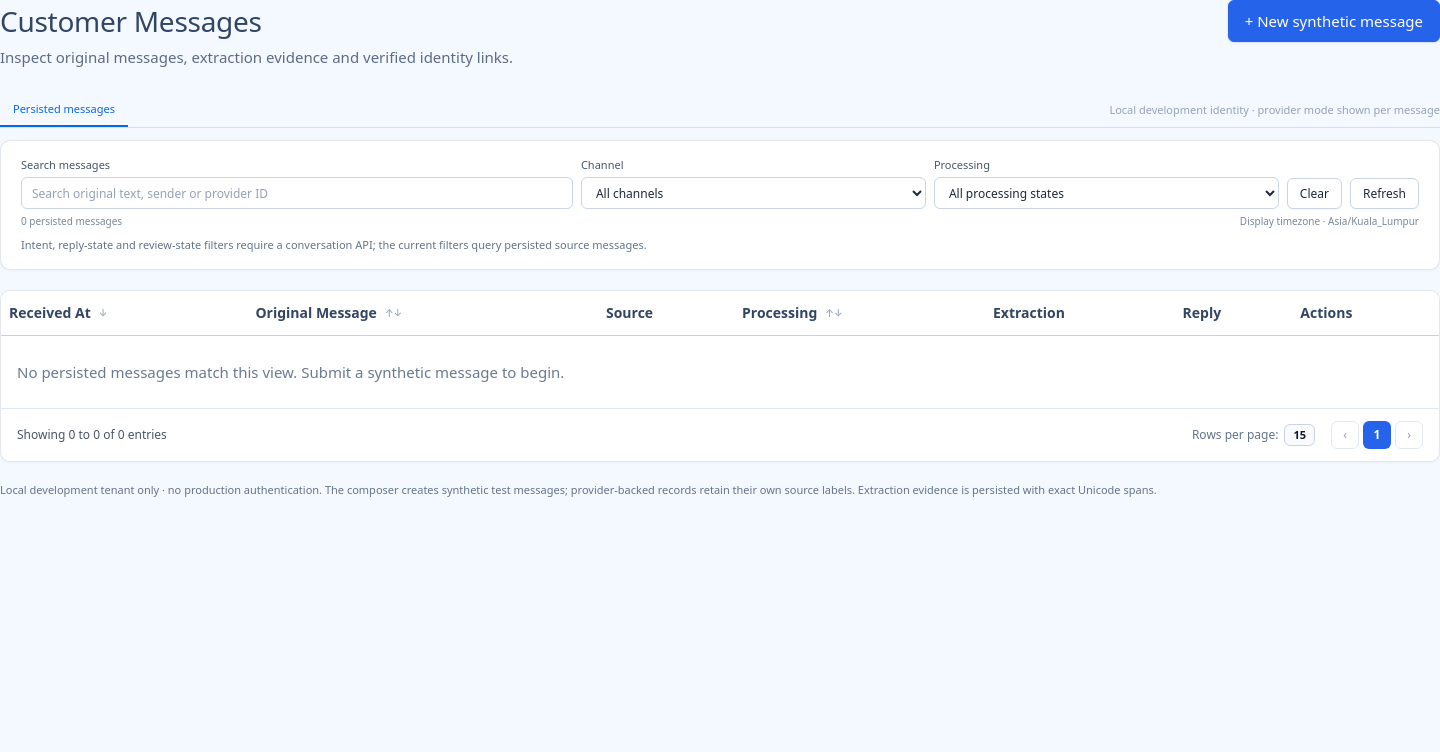
Test case: durable synthetic Inbox › validates missing original text without sending a request
This screenshot has width=1440, height=752.
Expected: the text "0 persisted messages" is shown, [21,214,122,229]
Click the button "+ New synthetic message" at (1334, 21), box [1228,0,1439,42]
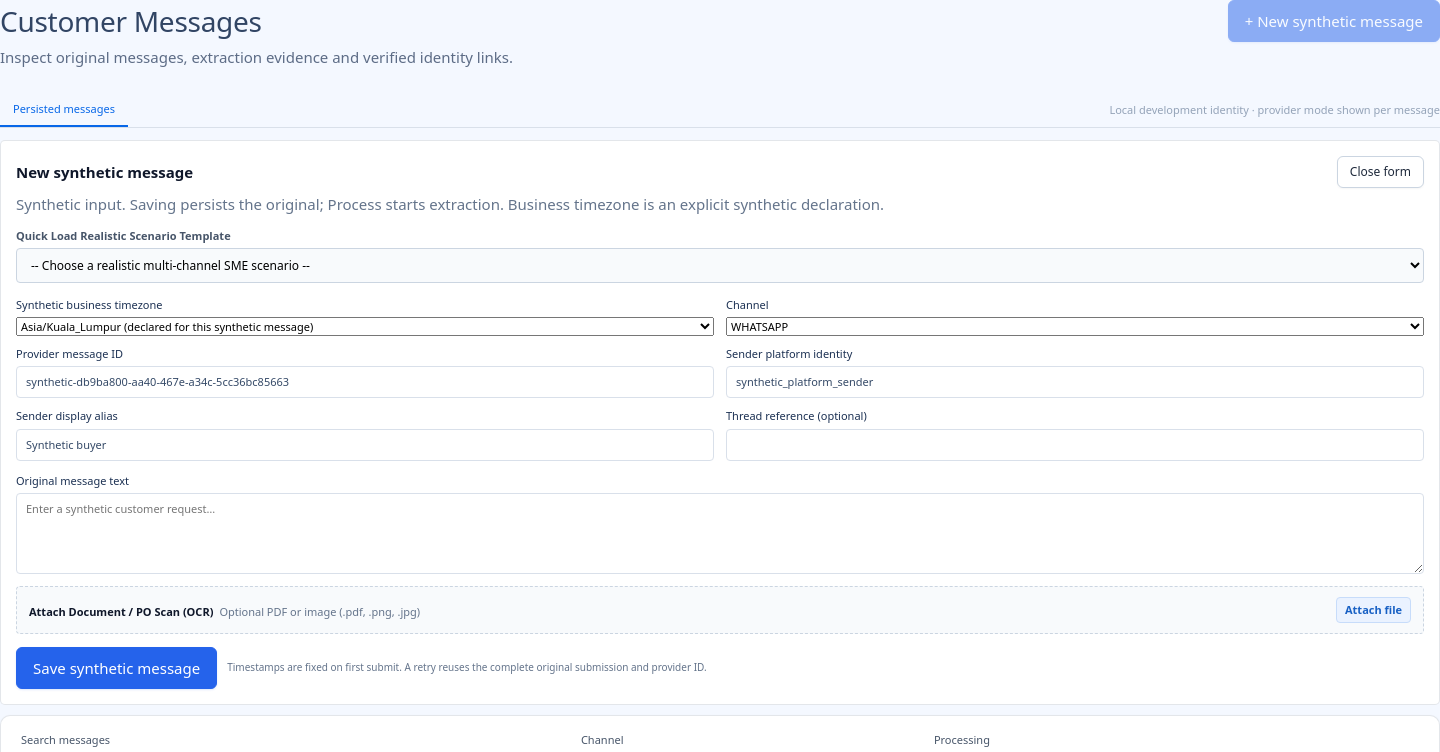
Click the button "Save synthetic message" at (117, 668), box [16,647,217,689]
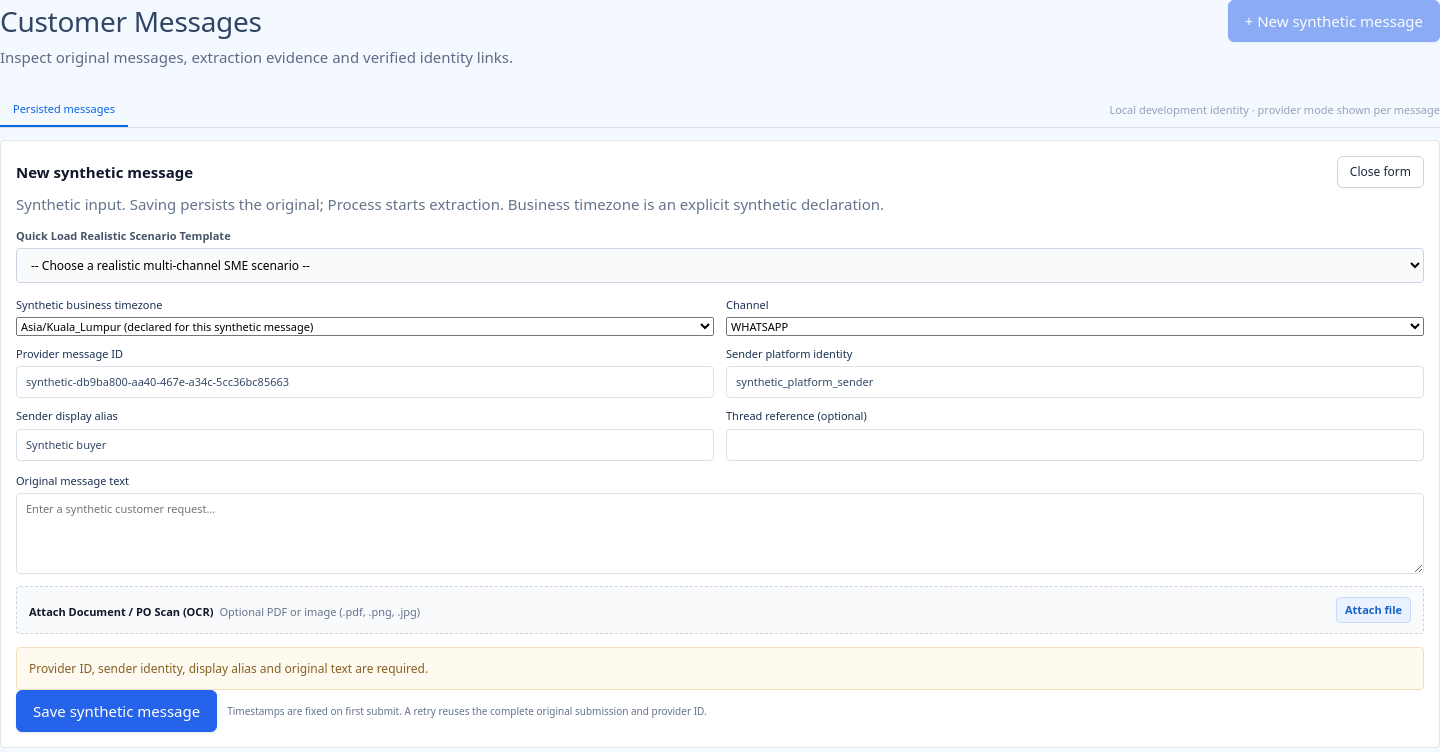
Result: the message shows "original text are required" at [29,660,428,677]
